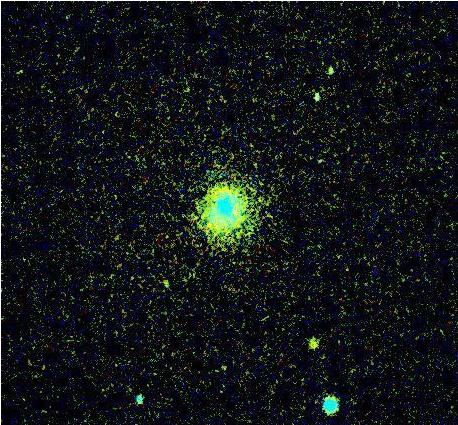star: (296, 327, 326, 357)
